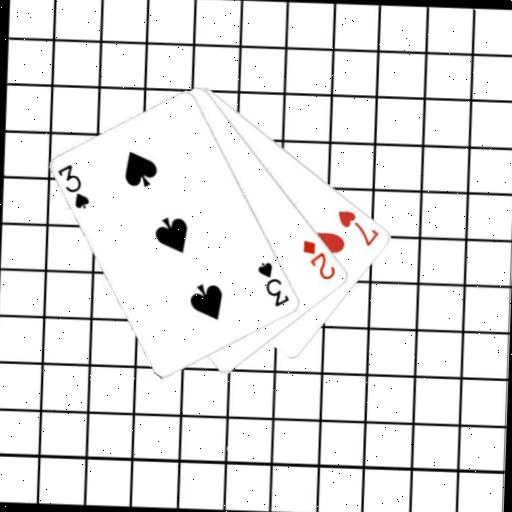2D: (299, 236, 339, 281)
3S: (253, 258, 292, 308), (54, 160, 93, 210)
7H: (334, 206, 382, 248)
